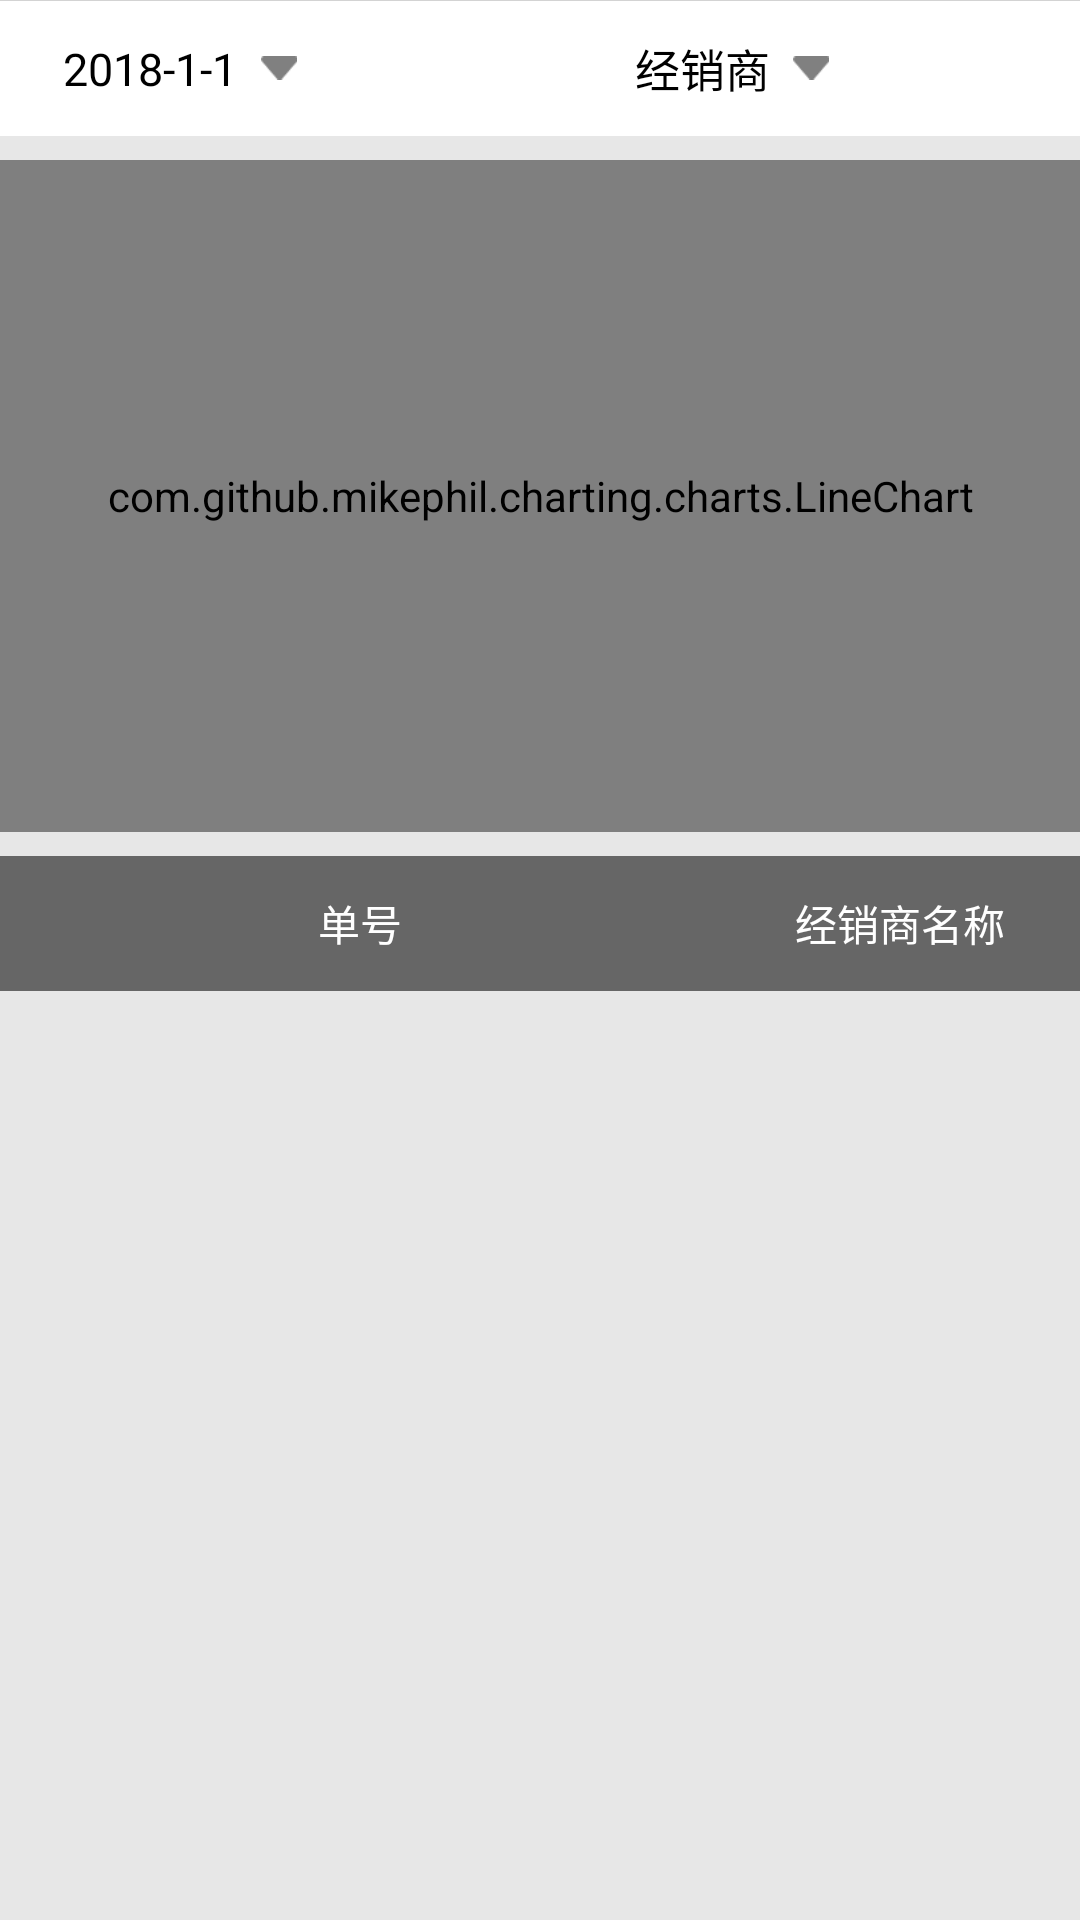

Where icons sit on this 1080×1920 app screen, as (x1, y1, x2, y2):
pull down: (261, 56, 297, 80), (793, 56, 829, 80)
